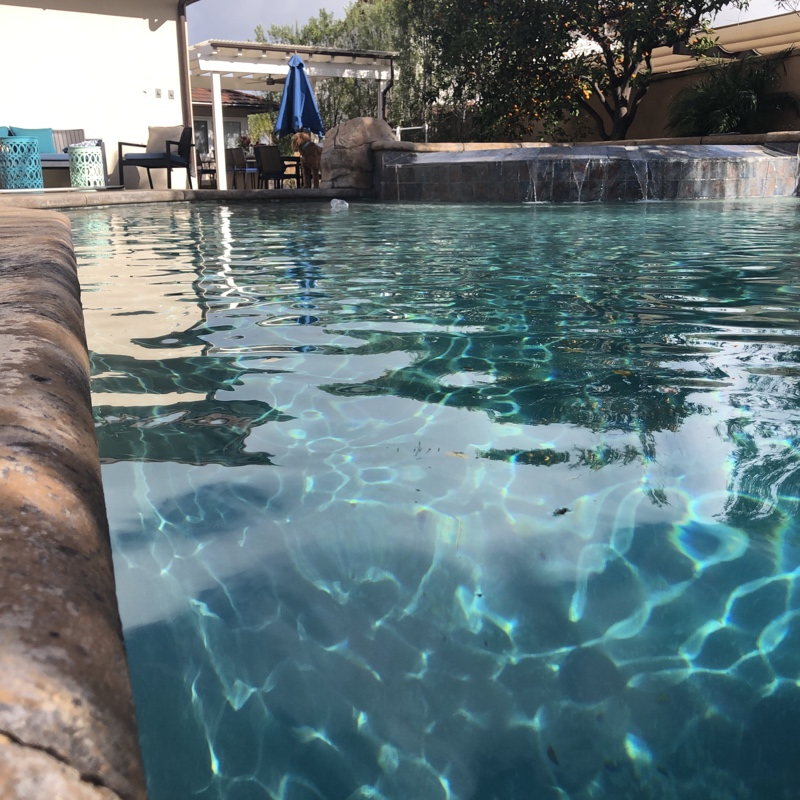Plastic Bottle: (328, 195, 349, 212)
